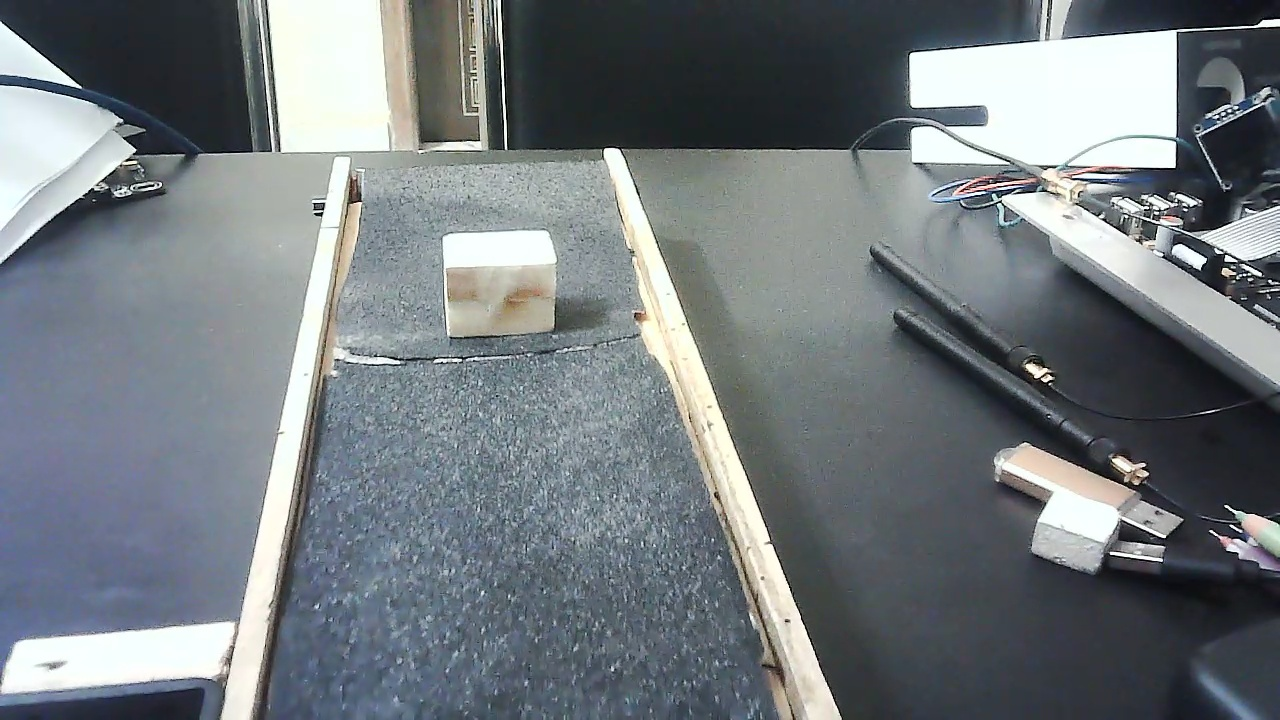Medium: (439, 223, 556, 340)
